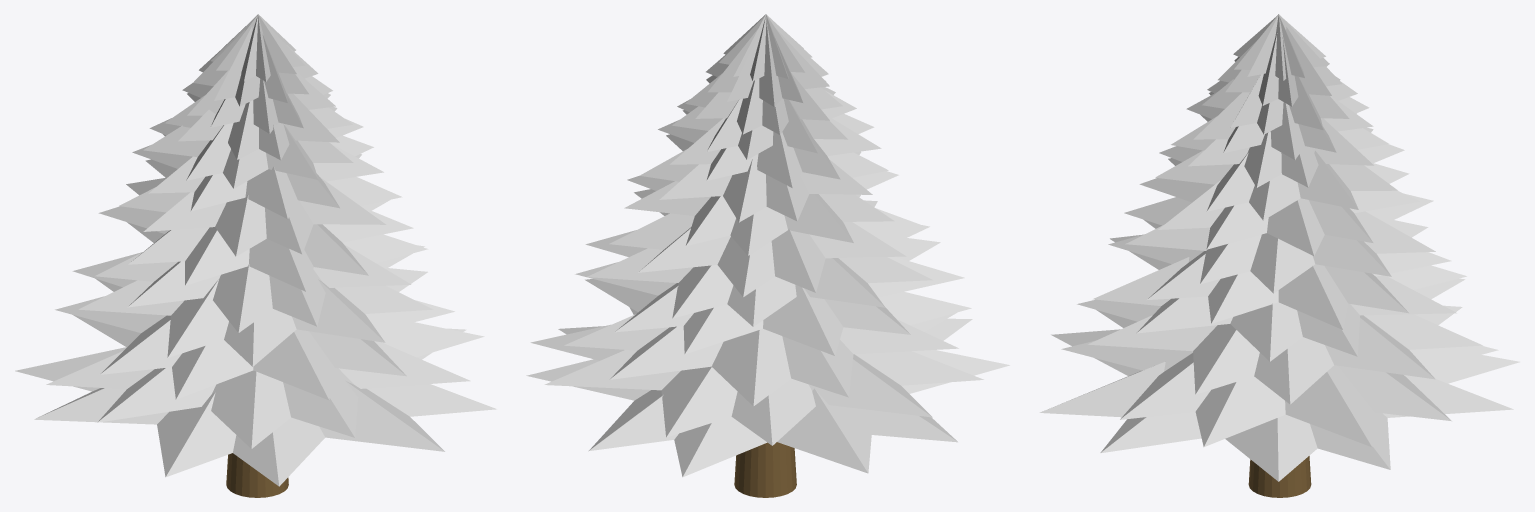
Rendered from Meleze.glb.
The picture shows the model from 3 angles, left to right: view 1: azimuth 30°, elevation 25°; view 2: azimuth 150°, elevation 25°; view 3: azimuth 270°, elevation 25°; orthographic projection.
Visible parts, largest first — view 1: Mesh_Mesh_head_geo.001_lambert2SG.001; view 2: Mesh_Mesh_head_geo.001_lambert2SG.001; view 3: Mesh_Mesh_head_geo.001_lambert2SG.001.
Part boxes in pixels (x1,y1,x2,y2): Mesh_Mesh_head_geo.001_lambert2SG.001: (15,14,496,497); Mesh_Mesh_head_geo.001_lambert2SG.001: (526,14,1009,497); Mesh_Mesh_head_geo.001_lambert2SG.001: (1039,14,1519,497).
Size of the model in its own units: 77 by 83 by 77.
